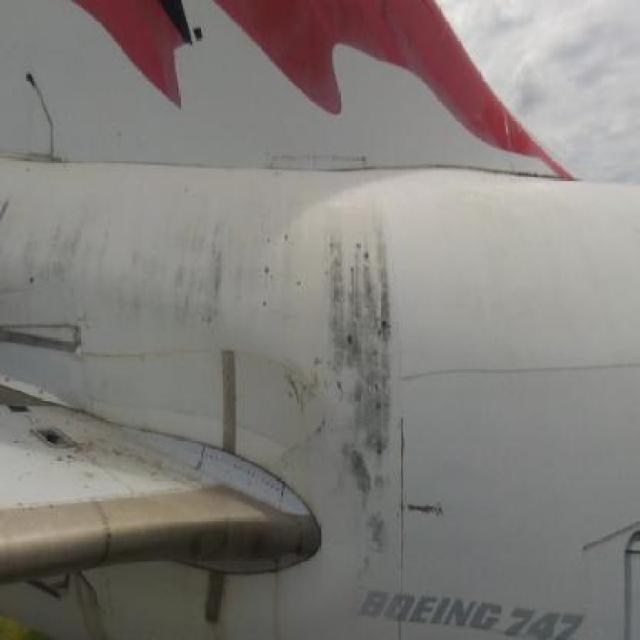Missing-Rivet: (204, 444, 284, 513), (269, 146, 393, 171)
Rust: (21, 168, 316, 368), (318, 194, 398, 563), (186, 564, 307, 640), (183, 516, 319, 572), (60, 572, 134, 638)
Scartch: (393, 415, 465, 567), (279, 352, 347, 468)
